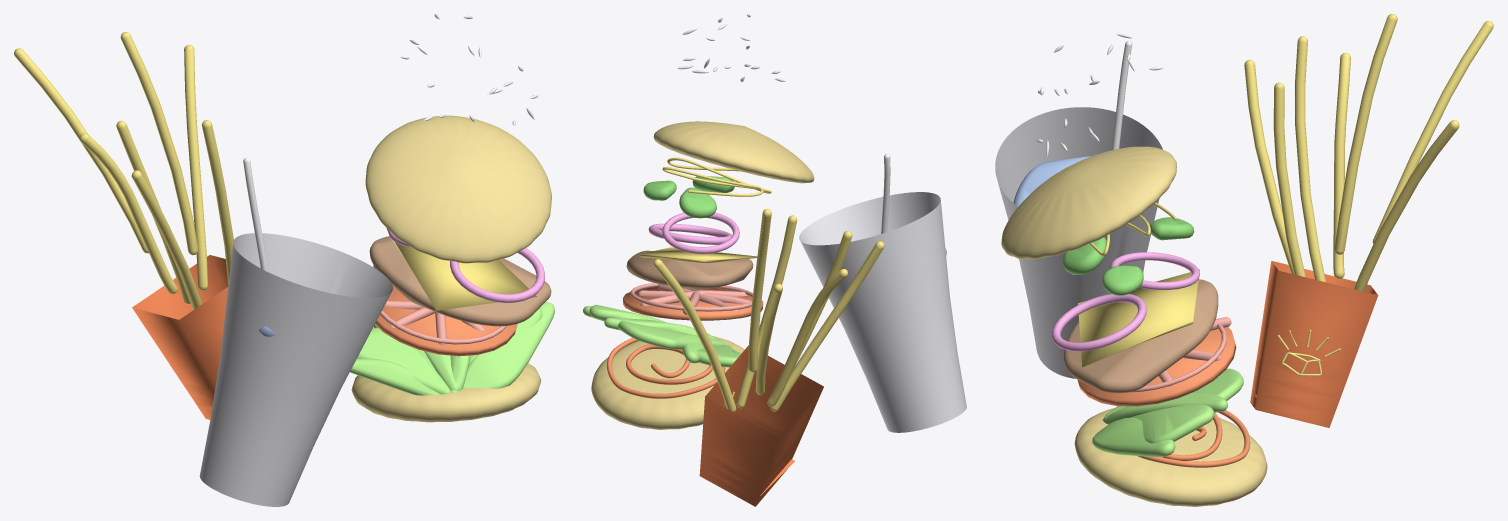
Rendered from snacktime.glb.
3 renders of one model, left to right at view 1: azimuth 30°, elevation 25°; view 2: azimuth 150°, elevation 25°; view 3: azimuth 270°, elevation 25°, orthographic. The views are drawn at different scales.
Parts seen in each view (by area): view 1: fastfood; view 2: fastfood; view 3: fastfood.
Part boxes in pixels (<box>): fastfood: <box>14,14,554,506</box>; fastfood: <box>583,14,966,506</box>; fastfood: <box>995,14,1493,506</box>.
Size of the model in its own units: 10.52 by 11.47 by 11.42.
